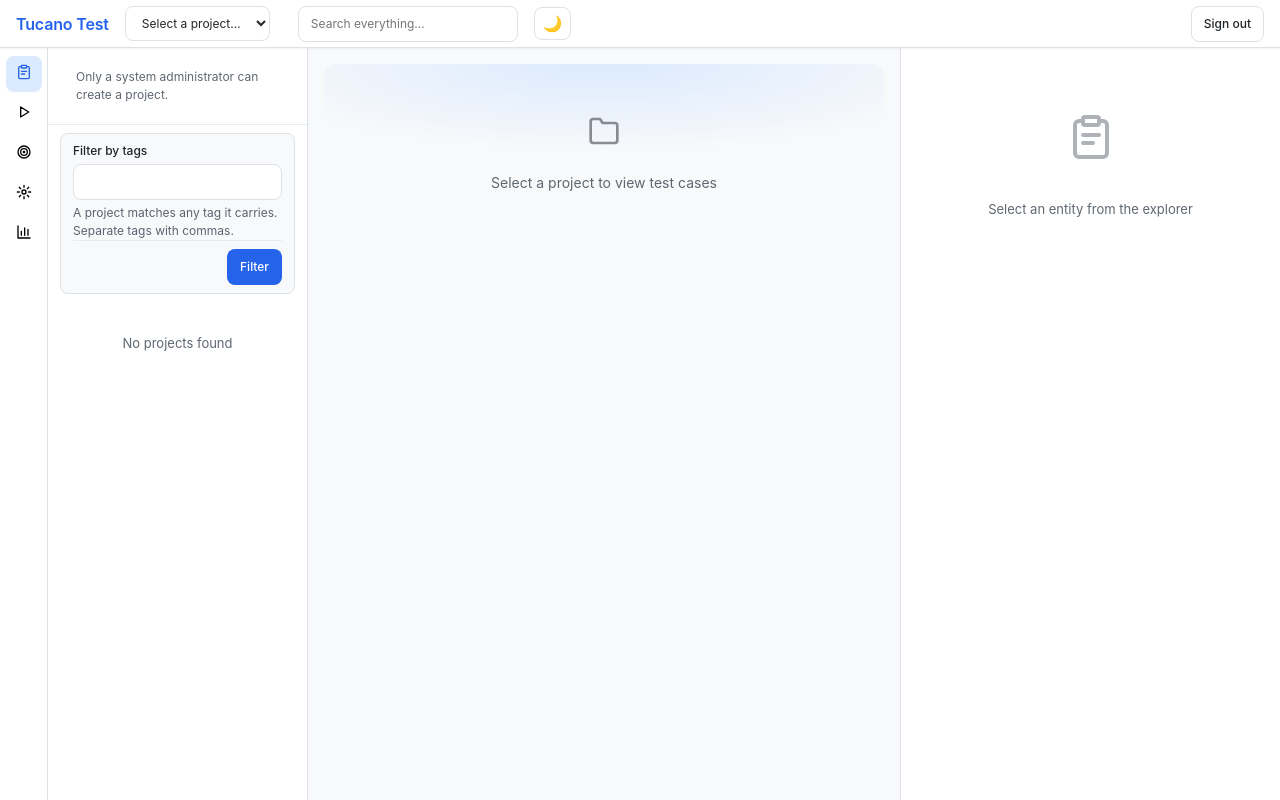
AppShell › switches the active module from the nav rail
Check: the text "No projects found" is shown, box x1=122 y1=334 x2=232 y2=354
Click the button named "Test Runs" at (24, 114), box x1=6 y1=96 x2=42 y2=132
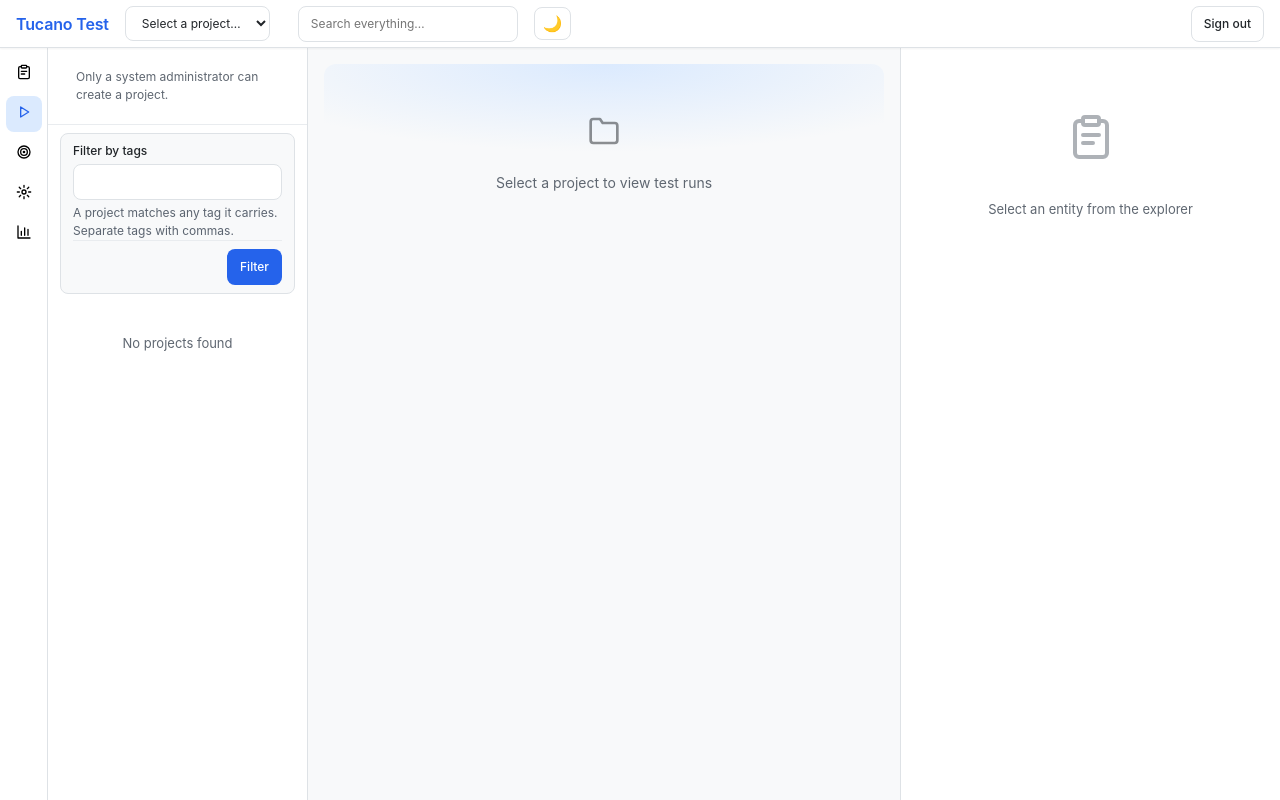
Check: the element "test runs" is shown, box x1=308 y1=48 x2=900 y2=799
Check: the text "Select a project to view test runs" is shown, box x1=496 y1=172 x2=712 y2=193
